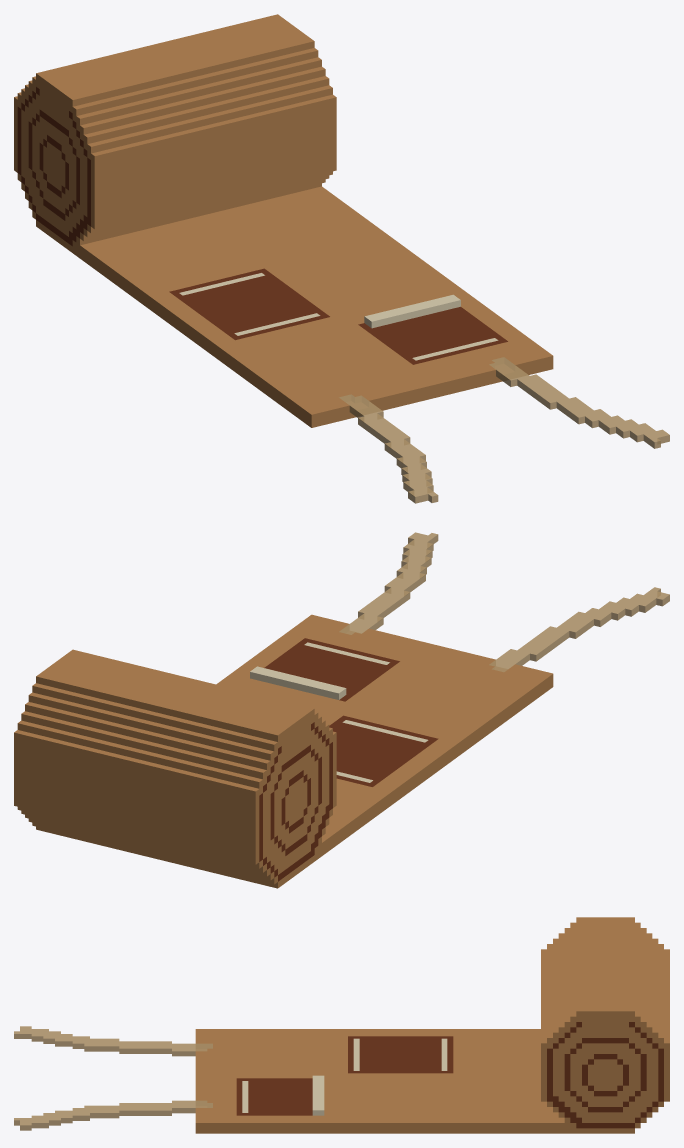
Rendered from chestwrap_leather.glb.
The picture shows the model from 3 angles, top to bottom: view 1: azimuth 30°, elevation 25°; view 2: azimuth 150°, elevation 25°; view 3: azimuth 270°, elevation 25°; orthographic projection. The views are drawn at different scales.
Visible parts, largest first — view 1: chestwrap_leather:compound; view 2: chestwrap_leather:compound; view 3: chestwrap_leather:compound.
Boxes of the visible parts, x1=… form: chestwrap_leather:compound: x1=14, y1=14, x2=669, y2=503; chestwrap_leather:compound: x1=14, y1=532, x2=669, y2=888; chestwrap_leather:compound: x1=14, y1=917, x2=669, y2=1133.
Bounding box in the file's own units: 0.16 × 0.092 × 0.448.
